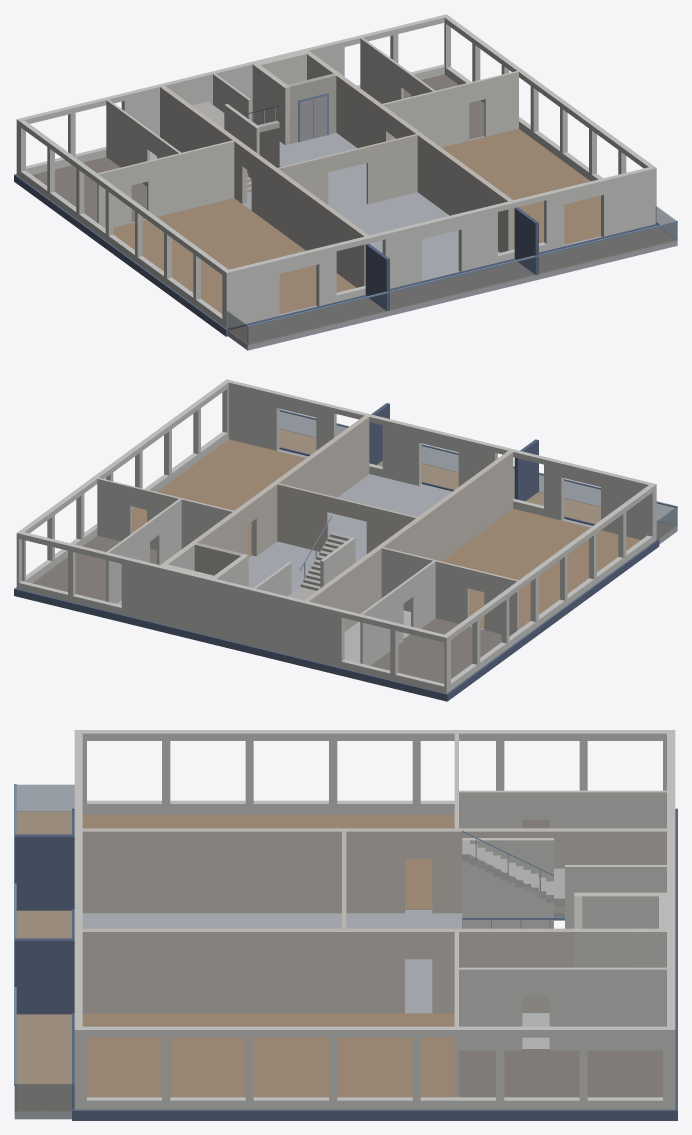
Rendered from office-floor.skyline-v2.lod0.glb.
The picture shows the model from 3 angles, top to bottom: view 1: azimuth 30°, elevation 25°; view 2: azimuth 150°, elevation 25°; view 3: azimuth 270°, elevation 25°; orthographic projection. The views are drawn at different scales.
Visible parts, largest first — view 1: office-floor; view 2: office-floor; view 3: office-floor.
Part boxes in pixels (bbox=[...]): office-floor: bbox=[14, 14, 677, 350]; office-floor: bbox=[14, 379, 677, 701]; office-floor: bbox=[14, 730, 677, 1120].
Size of the model in its own units: 26.2 by 4.89 by 24.32.
